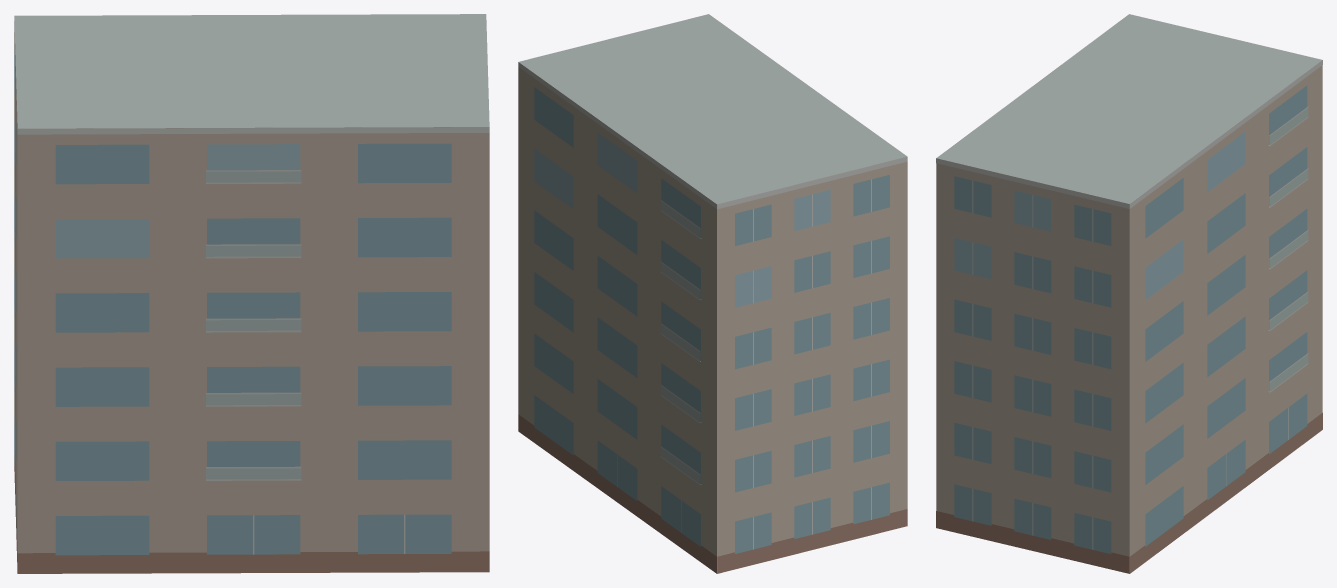
Rendered from survey-upis-32656975.glb.
The picture shows the model from 3 angles, left to right: view 1: azimuth 30°, elevation 25°; view 2: azimuth 150°, elevation 25°; view 3: azimuth 270°, elevation 25°; orthographic projection. The views are drawn at different scales.
Parts seen in each view (by area): view 1: survey-upis-32656975.tmp; view 2: survey-upis-32656975.tmp; view 3: survey-upis-32656975.tmp.
Boxes of the visible parts, box(x1,y1,x2,y2) form: survey-upis-32656975.tmp: box(14, 14, 489, 573); survey-upis-32656975.tmp: box(518, 14, 907, 573); survey-upis-32656975.tmp: box(936, 14, 1322, 573).
Bounding box in the file's own units: 20.18 × 18.3 × 17.35.
